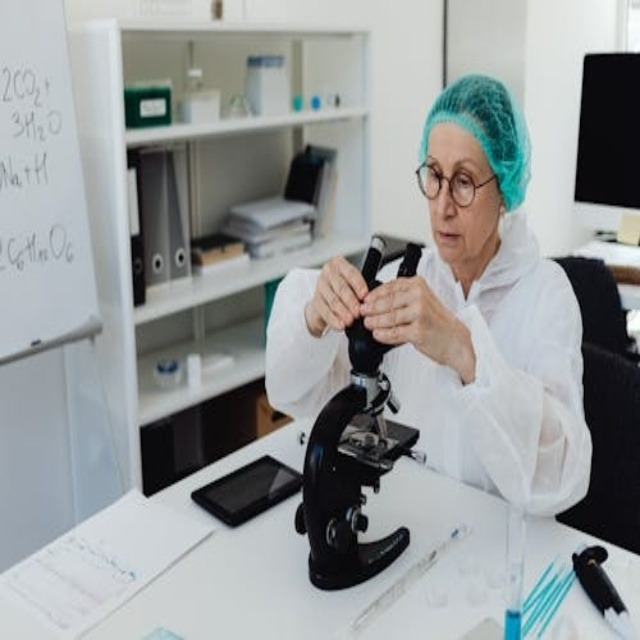Gafas: (415, 161, 499, 208)
Sin_guantes: (364, 256, 449, 373), (306, 252, 375, 339)
Sin_mascara: (434, 223, 466, 261)
